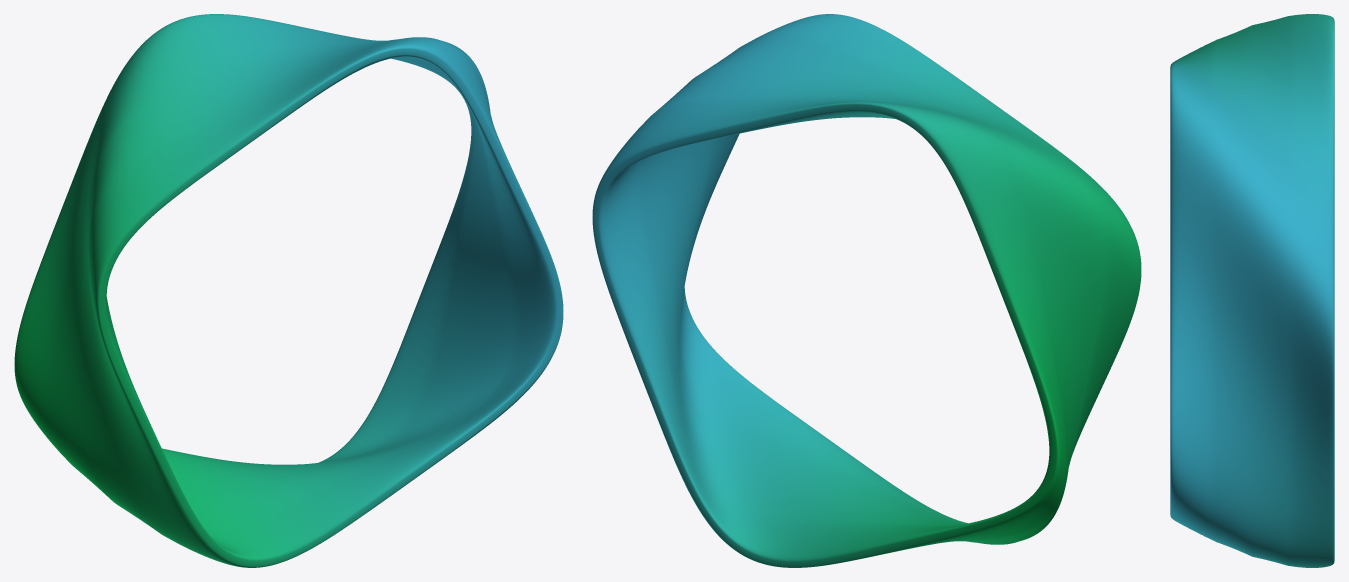
File: fluent-fold.glb
The picture shows the model from 3 angles, left to right: view 1: azimuth 30°, elevation 25°; view 2: azimuth 150°, elevation 25°; view 3: azimuth 270°, elevation 25°; orthographic projection. The views are drawn at different scales.
Parts seen in each view (by area): view 1: Fluent_fold; view 2: Fluent_fold; view 3: Fluent_fold.
Boxes of the visible parts, bbox=[...] form: Fluent_fold: bbox=[14, 14, 563, 567]; Fluent_fold: bbox=[592, 14, 1141, 567]; Fluent_fold: bbox=[1170, 14, 1334, 567].
Bounding box in the file's own units: 3 × 3 × 0.94.
